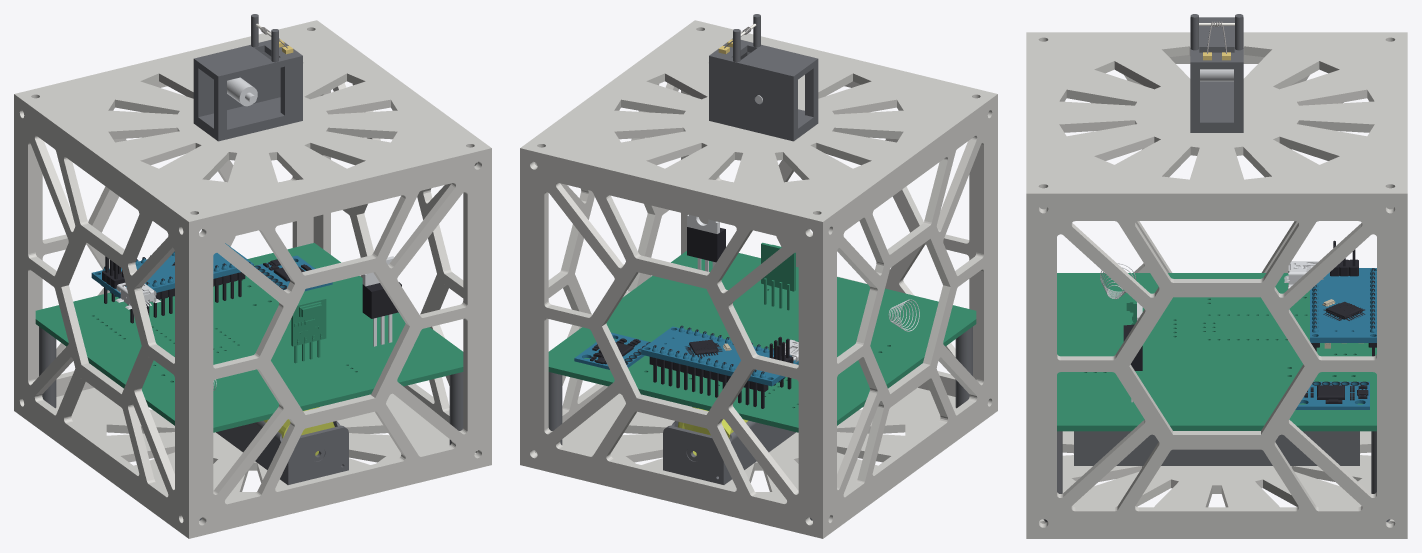
The model's file is cubesat.glb.
3 renders of one model, left to right at view 1: azimuth 30°, elevation 25°; view 2: azimuth 150°, elevation 25°; view 3: azimuth 270°, elevation 25°, orthographic. The views are drawn at different scales.
Visible parts, largest first — view 1: frame_lattice, pcb_base, battery_holder, cassette_cap, cassette_base, cassette_cheek_back, cassette_cheek_front, transmitter, arduino_nano_headers, arduino_nano_board, mosfet_body, standoff_4 (+3 smaller); view 2: frame_lattice, pcb_base, cassette_cheek_back, battery_holder, arduino_nano_board, cassette_cap, arduino_nano_headers, transmitter, cassette_base, mosfet_body, standoff_1, standoff_3 (+2 smaller); view 3: frame_lattice, pcb_base, battery_holder, arduino_nano_board, cassette_cap, cassette_base, imu_mpu6050_board, imu_mpu6050_parts, arduino_nano_headers, cassette_cheek_back, cassette_cheek_front, arduino_nano_chips (+1 smaller).
Part boxes in pixels (x1=…): frame_lattice: x1=14, y1=20, x2=491, y2=538; pcb_base: x1=35, y1=243, x2=463, y2=432; battery_holder: x1=216, y1=421, x2=348, y2=484; cassette_cap: x1=193, y1=38, x2=302, y2=82; cassette_base: x1=193, y1=97, x2=302, y2=141; cassette_cheek_back: x1=193, y1=52, x2=280, y2=117; cassette_cheek_front: x1=214, y1=62, x2=302, y2=131; transmitter: x1=291, y1=297, x2=326, y2=363; arduino_nano_headers: x1=100, y1=251, x2=245, y2=323; arduino_nano_board: x1=91, y1=243, x2=253, y2=298; mosfet_body: x1=362, y1=282, x2=401, y2=318; standoff_4: x1=39, y1=326, x2=56, y2=408; frame_lattice: x1=520, y1=20, x2=997, y2=538; pcb_base: x1=548, y1=251, x2=976, y2=432; cassette_cheek_back: x1=709, y1=62, x2=797, y2=131; battery_holder: x1=663, y1=421, x2=795, y2=484; arduino_nano_board: x1=641, y1=326, x2=798, y2=386; cassette_cap: x1=709, y1=38, x2=818, y2=82; arduino_nano_headers: x1=649, y1=325, x2=793, y2=408; transmitter: x1=761, y1=242, x2=795, y2=310; cassette_base: x1=709, y1=109, x2=818, y2=141; mosfet_body: x1=687, y1=227, x2=725, y2=262; standoff_1: x1=955, y1=326, x2=972, y2=408; standoff_3: x1=548, y1=372, x2=562, y2=444; frame_lattice: x1=1026, y1=32, x2=1407, y2=538; pcb_base: x1=1057, y1=273, x2=1376, y2=431; battery_holder: x1=1074, y1=431, x2=1359, y2=465; arduino_nano_board: x1=1310, y1=268, x2=1376, y2=342; cassette_cap: x1=1190, y1=17, x2=1243, y2=69; cassette_base: x1=1190, y1=81, x2=1243, y2=132; imu_mpu6050_board: x1=1295, y1=381, x2=1369, y2=409; imu_mpu6050_parts: x1=1304, y1=381, x2=1368, y2=403; arduino_nano_headers: x1=1311, y1=240, x2=1376, y2=356; cassette_cheek_back: x1=1234, y1=69, x2=1243, y2=122; cassette_cheek_front: x1=1190, y1=69, x2=1199, y2=122; arduino_nano_chips: x1=1323, y1=301, x2=1365, y2=320.
Size of the model in its own units: 0.1 by 0.13 by 0.1.
